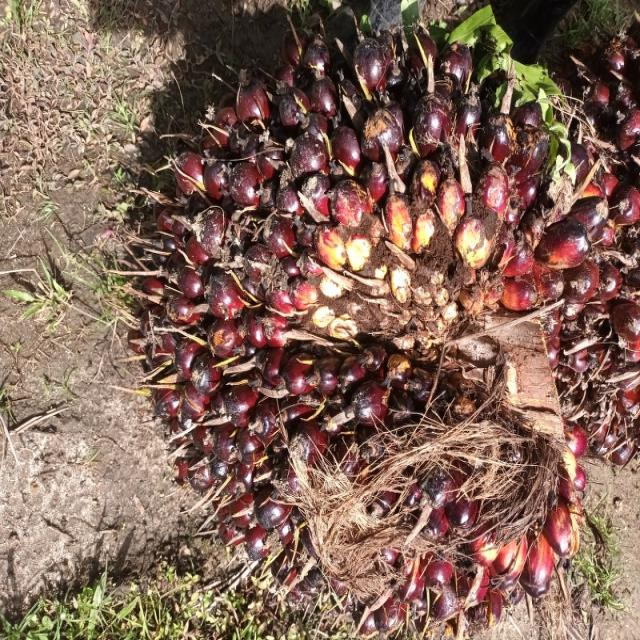fraksi 1: (11, 74, 452, 640)
